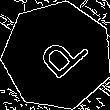P_SW: (25, 25, 89, 86)
